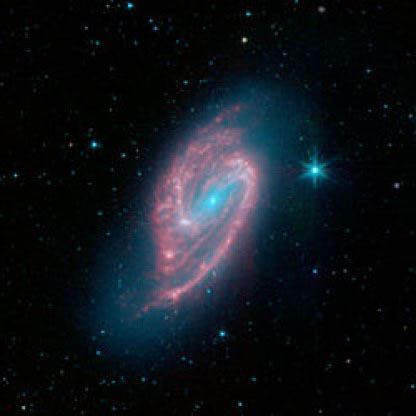Messier 66: (88, 62, 349, 360)
